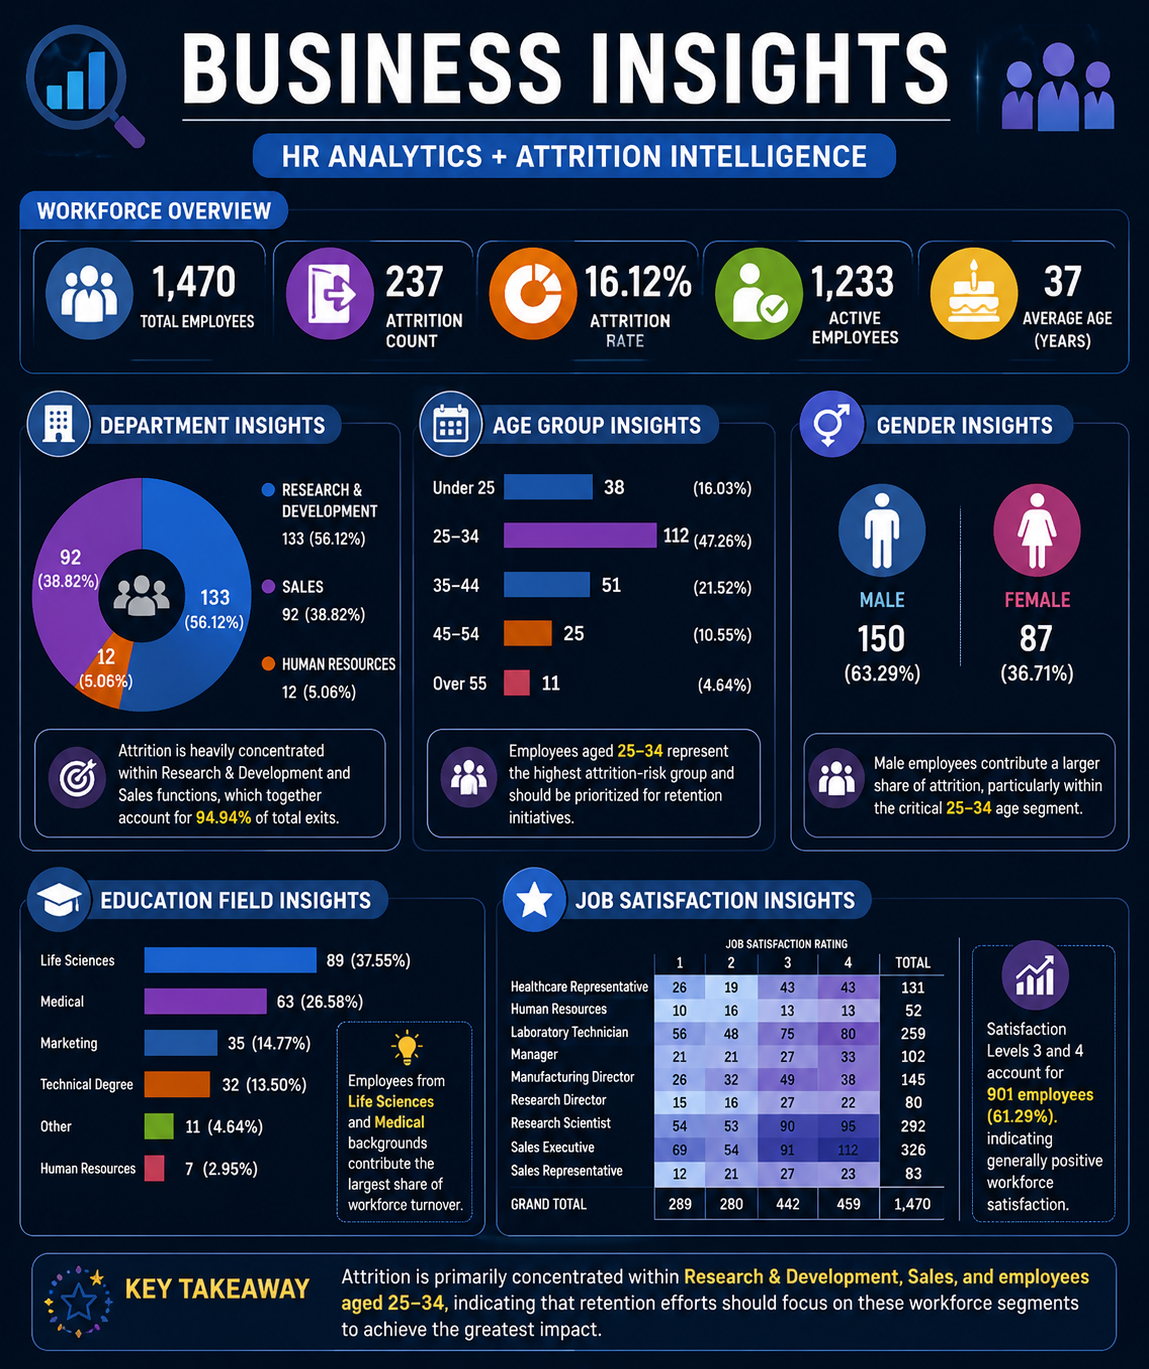

What the dashboard file says about the page in this screenshot:
{"tool":"tableau","page":{"name":"HR Analytics Dashboard","canvas":[1580,900],"ordinal":0},"visuals":[{"type":"image","param":"Image/HR background.pptx.png","box":[8,8,1564,884]},{"type":"text","box":[21,16,1538,68]},{"type":"filter","title":"Department-wise Attrition","param":"[federated.1ljwm4b0gt83et1f444gw04sd86y].[none:Calculation_0874668252459012:nk]","box":[704,26,247,50]},{"type":"worksheet","title":"KPI","mark":"Automatic","box":[21,97,1323,133]},{"type":"worksheet","title":" Attrition by Gender","mark":"Circle","rows":["Gender"],"cols":["Calculation_0874668246257665","Calculation_0874668246257665"],"box":[1358,98,199,128]},{"type":"worksheet","title":"Job Satisfaction Ratings","mark":"Square","rows":["JobRole"],"cols":["JobSatisfaction"],"box":[1042,244,513,364]},{"type":"worksheet","title":"Department-wise Attrition","mark":"Pie","box":[20,245,452,282]},{"type":"worksheet","title":"Employee by Age Group","mark":"Automatic","rows":["EmployeeCount"],"cols":["Age (bin)"],"box":[485,245,538,360]},{"type":"parameter","param":"[Parameters].[Parameter 1]","box":[802,247,221,37]},{"type":"legend","title":"Employee by Age Group","param":"[federated.1ljwm4b0gt83et1f444gw04sd86y].[sum:EmployeeCount:qk]","box":[838,287,160,46]},{"type":"legend","title":"Department-wise Attrition","param":"[federated.1ljwm4b0gt83et1f444gw04sd86y].[none:Department:nk]","box":[22,524,207,85]},{"type":"worksheet","title":"Attrition Rate by Gender & Age Group","mark":"Pie","rows":["Calculation_1845262249828354","Calculation_1845262249828354"],"cols":["Calculation_1845262248910848"],"box":[468,622,1087,254]},{"type":"worksheet","title":"Education Field Attrition","mark":"Automatic","rows":["EducationField"],"cols":["Calculation_0874668246257665"],"box":[21,623,423,253]},{"type":"legend","title":"Attrition Rate by Gender & Age Group","param":"[federated.1ljwm4b0gt83et1f444gw04sd86y].[none:Gender:nk]","box":[1127,625,429,40]}]}

Visuals, with their boxes on the page's 1580x900 design canvas (x1, y1, x2, y2). These are canvas units, not pixel positions in the 1149x1369 screenshot, which may show the page scaled, cropped or inside an application window:
image: <box>8,8,1572,892</box>
text: <box>21,16,1559,84</box>
"Department-wise Attrition" filter: <box>704,26,951,76</box>
"KPI" worksheet: <box>21,97,1344,230</box>
" Attrition by Gender" worksheet (Circle marks): <box>1358,98,1557,226</box>
"Job Satisfaction Ratings" worksheet (Square marks): <box>1042,244,1555,608</box>
"Department-wise Attrition" worksheet (Pie marks): <box>20,245,472,527</box>
"Employee by Age Group" worksheet: <box>485,245,1023,605</box>
parameter: <box>802,247,1023,284</box>
"Employee by Age Group" legend: <box>838,287,998,333</box>
"Department-wise Attrition" legend: <box>22,524,229,609</box>
"Attrition Rate by Gender & Age Group" worksheet (Pie marks): <box>468,622,1555,876</box>
"Education Field Attrition" worksheet: <box>21,623,444,876</box>
"Attrition Rate by Gender & Age Group" legend: <box>1127,625,1556,665</box>
